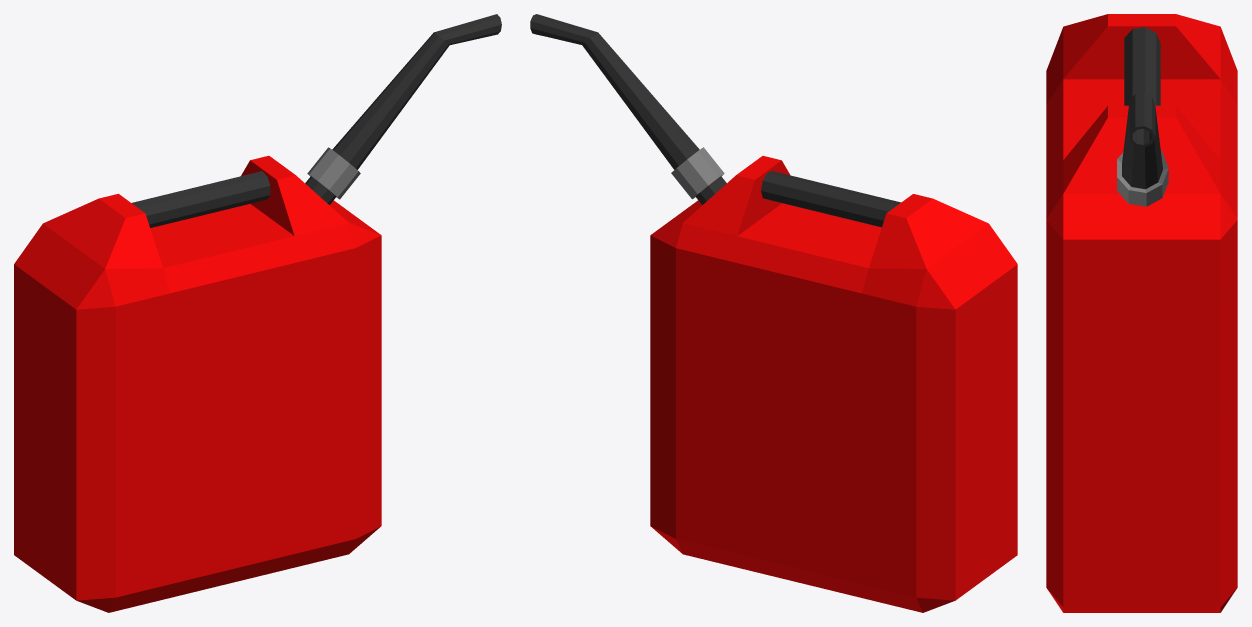
The model's file is gas-can.glb.
The picture shows the model from 3 angles, left to right: view 1: azimuth 30°, elevation 25°; view 2: azimuth 150°, elevation 25°; view 3: azimuth 270°, elevation 25°; orthographic projection. The views are drawn at different scales.
Parts seen in each view (by area): view 1: Cube; view 2: Cube; view 3: Cube.
Boxes of the visible parts, <box> form: Cube: <box>14,14,501,612</box>; Cube: <box>530,14,1017,612</box>; Cube: <box>1046,14,1237,612</box>.
Bounding box in the file's own units: 0.8484 × 0.8467 × 0.2459.
1 material, 1 textured.
